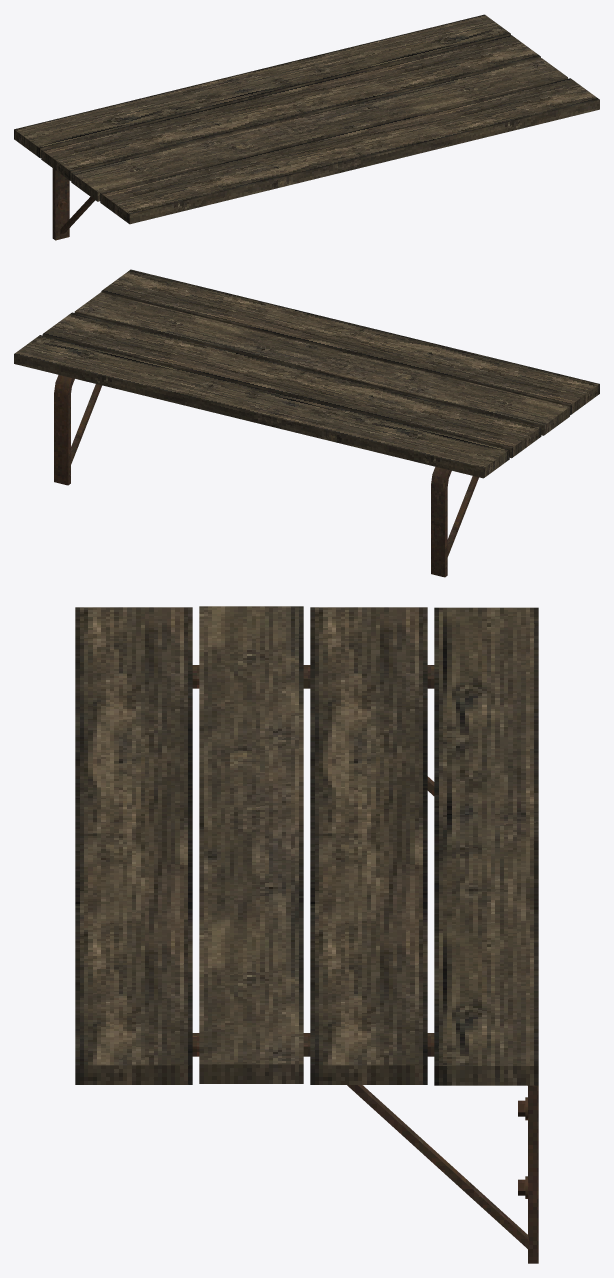
File: hanging_shelf_mx_3.glb
3 views of the same model, one above another, from view 1: azimuth 30°, elevation 25°; view 2: azimuth 150°, elevation 25°; view 3: azimuth 270°, elevation 25° (orthographic). The views are drawn at different scales.
Visible parts, largest first — view 1: hanging_shelf_mx_3; view 2: hanging_shelf_mx_3; view 3: hanging_shelf_mx_3.
Part boxes in pixels (<box>): hanging_shelf_mx_3: <box>14,14,599,240</box>; hanging_shelf_mx_3: <box>14,269,599,577</box>; hanging_shelf_mx_3: <box>75,606,538,1263</box>.
Size of the model in its own units: 1 by 0.24 by 0.426.
Materials: 2 (2 with a texture image).
